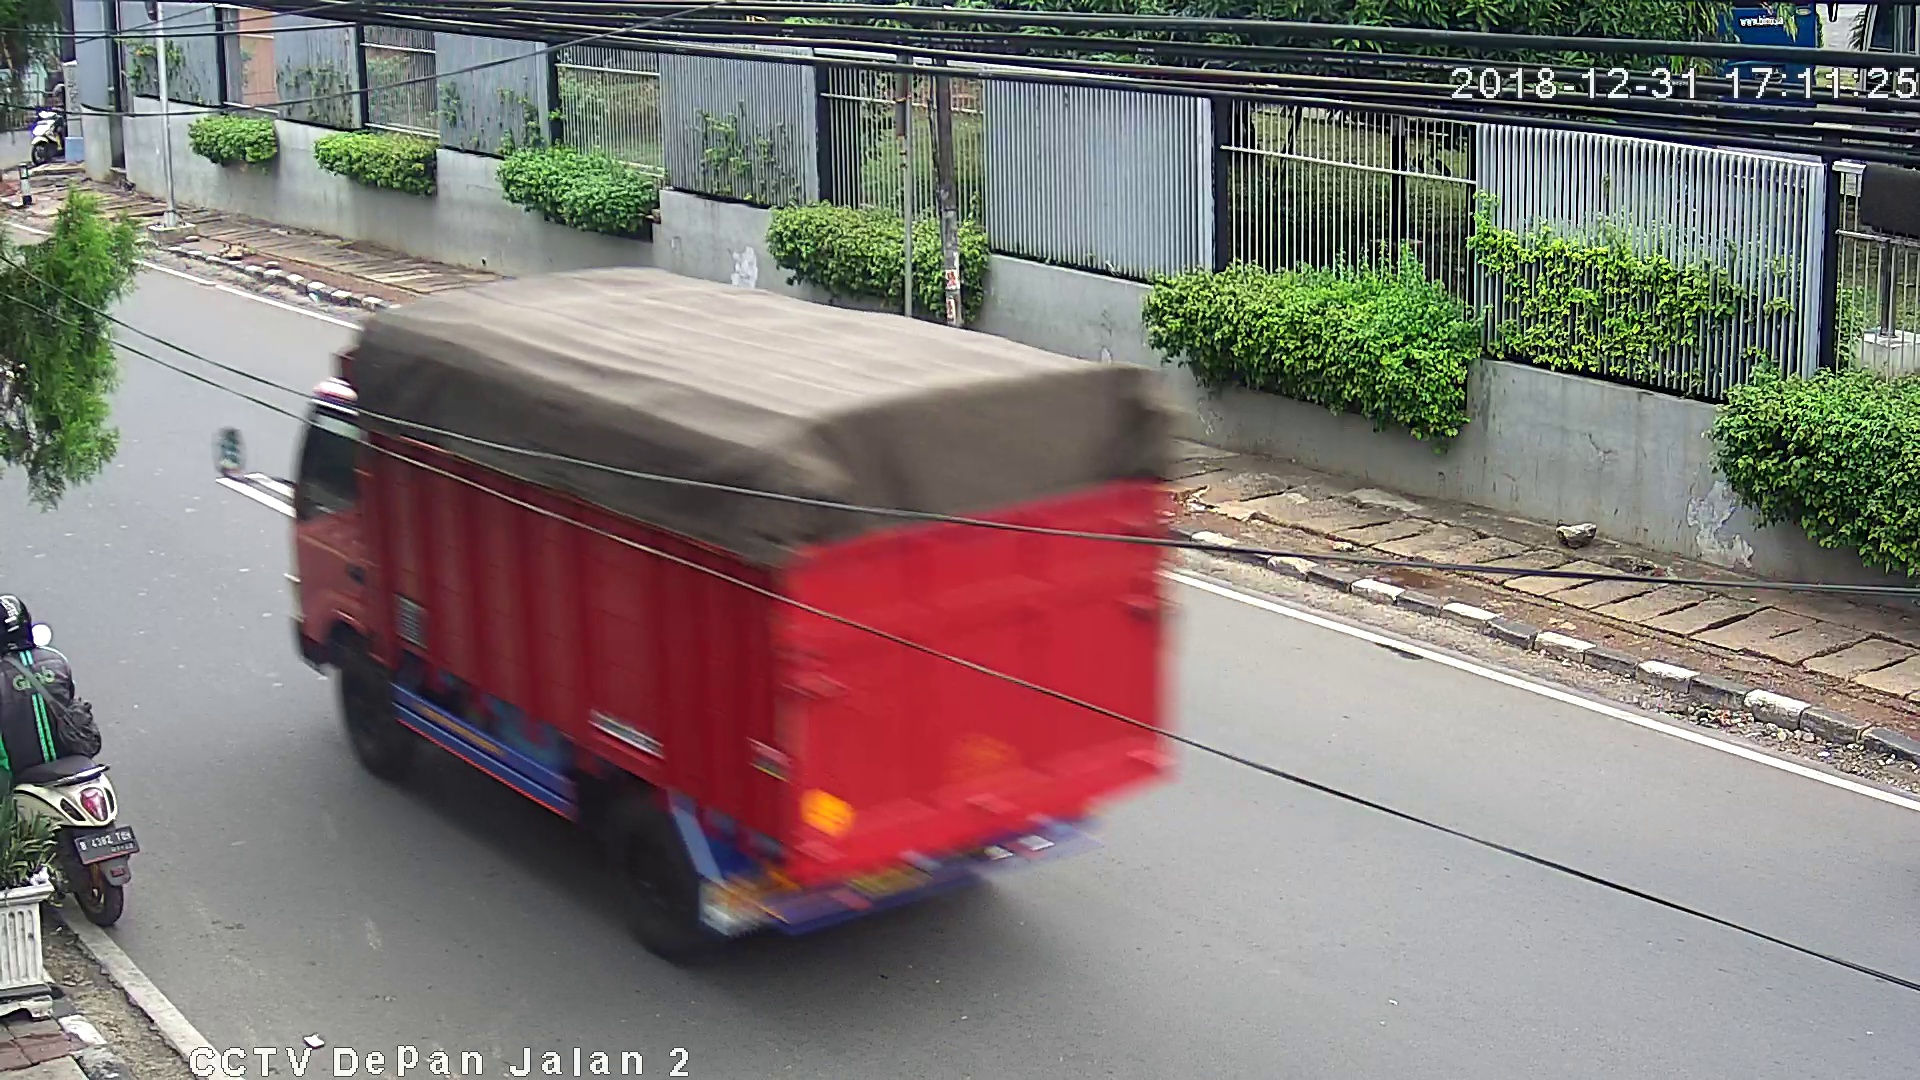motorcycle: (1, 589, 152, 940)
truck: (214, 266, 1174, 967)
